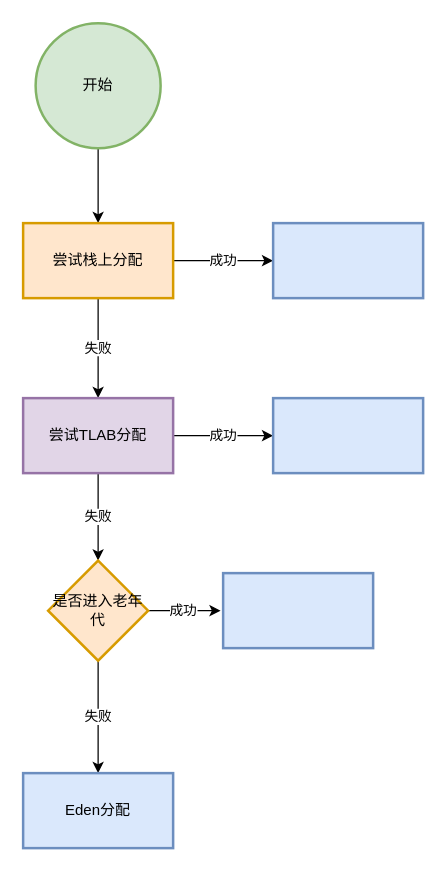
This 445x870 diagram has some shape labels left out. Here are the shapes that lost their labels. From the top down, the box of each, then its label:
(271, 221, 424, 299): 栈上分配
(271, 396, 424, 474): TLAB分配
(221, 571, 374, 649): 老年代分配
